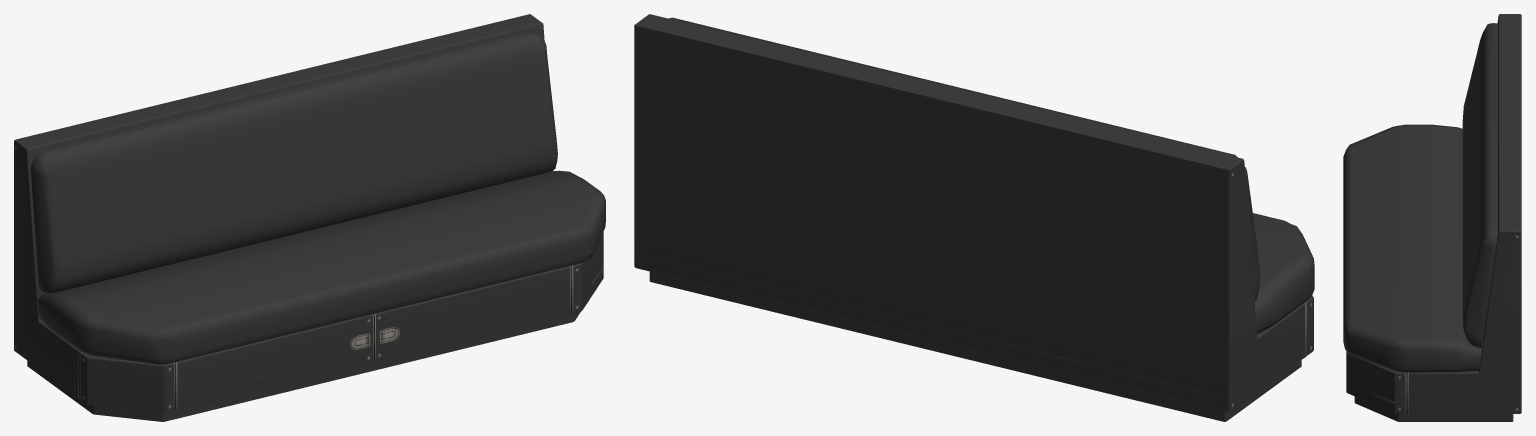
The model's file is SM_Sofa_01.FBX.
The picture shows the model from 3 angles, left to right: view 1: azimuth 30°, elevation 25°; view 2: azimuth 150°, elevation 25°; view 3: azimuth 270°, elevation 25°; orthographic projection. The views are drawn at different scales.
Visible parts, largest first — view 1: SM_Sofa_01_LOD0; view 2: SM_Sofa_01_LOD0; view 3: SM_Sofa_01_LOD0.
Part boxes in pixels (x1,y1,x2,y2): SM_Sofa_01_LOD0: [14, 14, 605, 421]; SM_Sofa_01_LOD0: [634, 14, 1314, 421]; SM_Sofa_01_LOD0: [1343, 14, 1521, 421].
Size of what is drawn, in the model's own units: 232 by 78.69 by 94.64.
